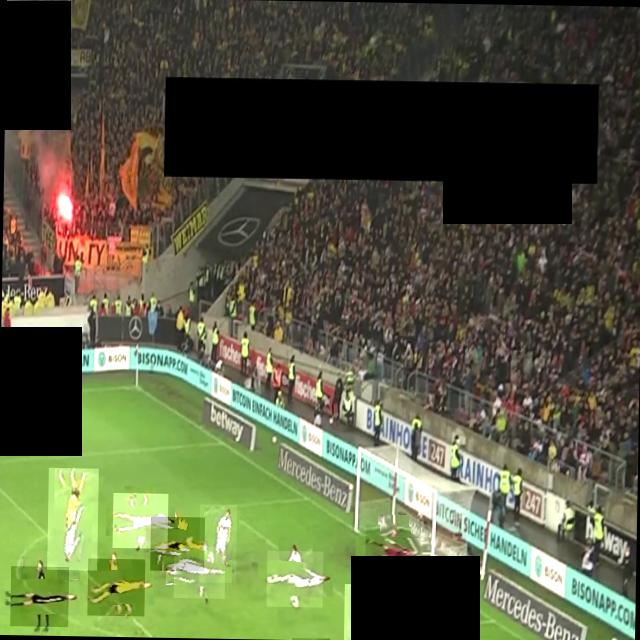goalkeeper: (364, 524, 419, 579)
referee: (8, 564, 68, 626)
soccer-player: (46, 466, 98, 569), (86, 557, 144, 615), (264, 549, 322, 606), (111, 492, 167, 548), (148, 515, 204, 570), (198, 502, 235, 582), (172, 544, 224, 598), (342, 582, 379, 640), (290, 636, 328, 640)
